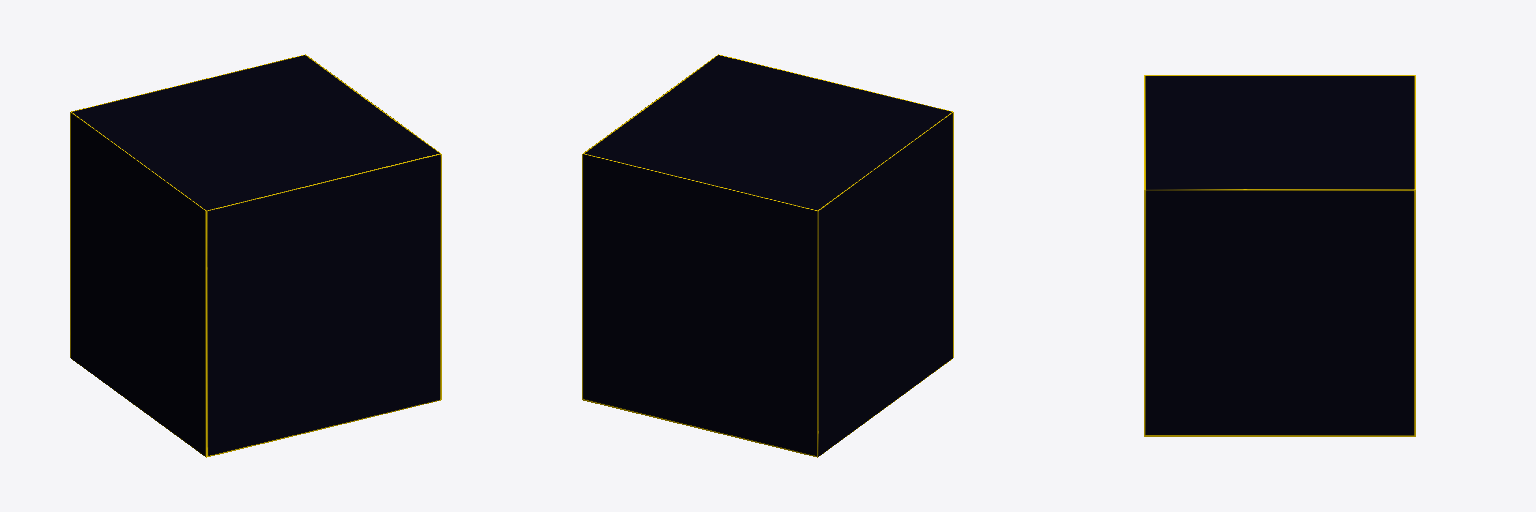
3 views of the same model, side by side, from view 1: azimuth 30°, elevation 25°; view 2: azimuth 150°, elevation 25°; view 3: azimuth 270°, elevation 25° (orthographic).
Parts seen in each view (by area): view 1: Cube; view 2: Cube; view 3: Cube.
Part boxes in pixels (bbox=[...]): Cube: bbox=[70, 54, 441, 457]; Cube: bbox=[582, 54, 953, 457]; Cube: bbox=[1144, 75, 1415, 436].
Bounding box in the file's own units: 2 × 2 × 2.
1 materials, 1 textured.